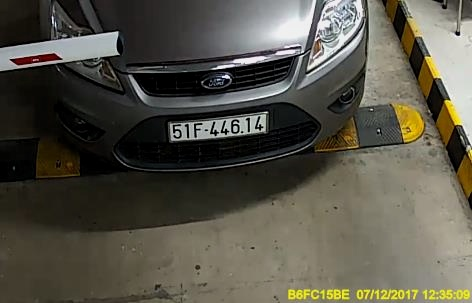plate: (165, 115, 269, 144)
